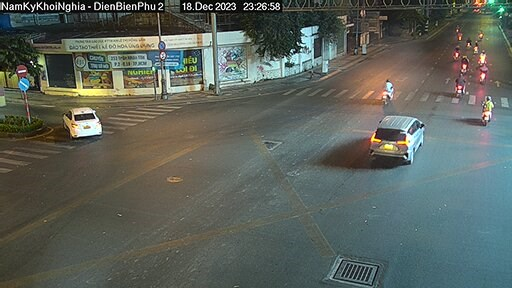car: (365, 108, 427, 164), (57, 107, 106, 141)
motorbike: (479, 96, 497, 124), (377, 76, 395, 101)
